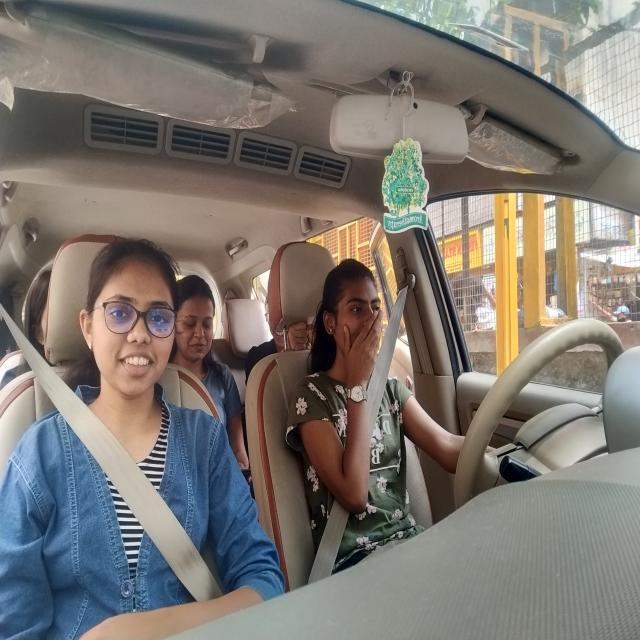drowsy: (312, 260, 414, 412)
person: (76, 238, 190, 424), (173, 255, 237, 369), (25, 250, 68, 374)
